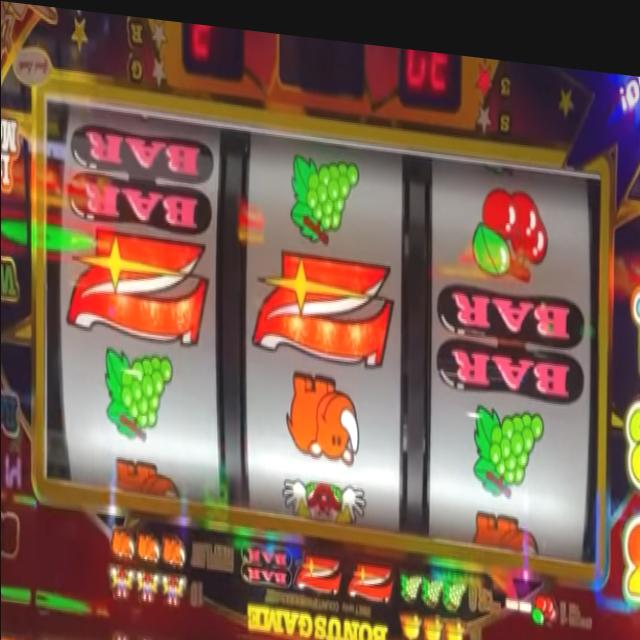bar: (435, 270, 585, 393), (66, 119, 212, 234), (238, 535, 290, 584)
cherry: (470, 171, 549, 275), (531, 579, 557, 615)
clown: (281, 468, 365, 520), (108, 560, 134, 600), (160, 569, 186, 603), (136, 566, 160, 602)
display: (45, 96, 602, 549)
elephant: (284, 362, 358, 460), (468, 495, 538, 545), (110, 452, 178, 500), (136, 529, 160, 563), (110, 524, 134, 557), (162, 531, 186, 563)
grape: (102, 340, 172, 444), (472, 390, 544, 490), (288, 142, 360, 242), (399, 561, 420, 597), (443, 568, 466, 600), (421, 565, 442, 599)
z: (64, 219, 210, 347), (250, 238, 393, 364), (294, 541, 341, 589), (345, 550, 395, 595)
